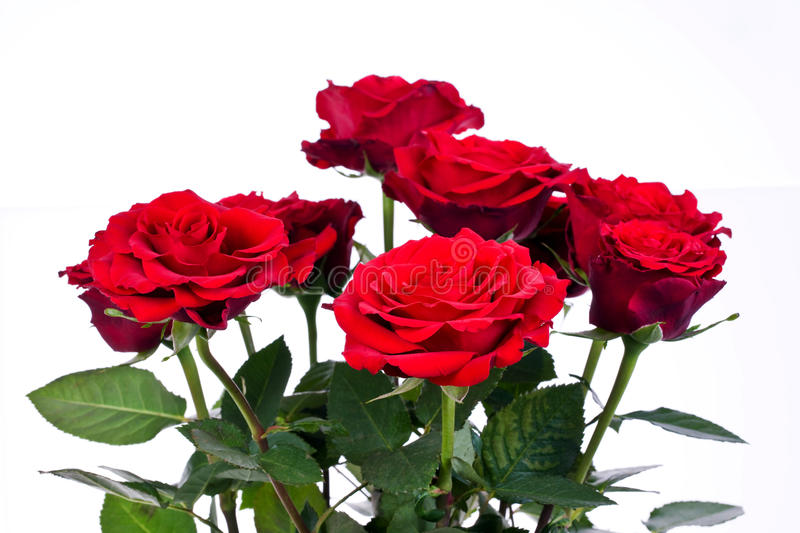RedRose: (83, 186, 302, 329), (360, 235, 573, 356), (580, 135, 705, 279), (318, 76, 493, 167), (421, 144, 569, 242), (606, 230, 705, 327), (304, 201, 342, 301)
